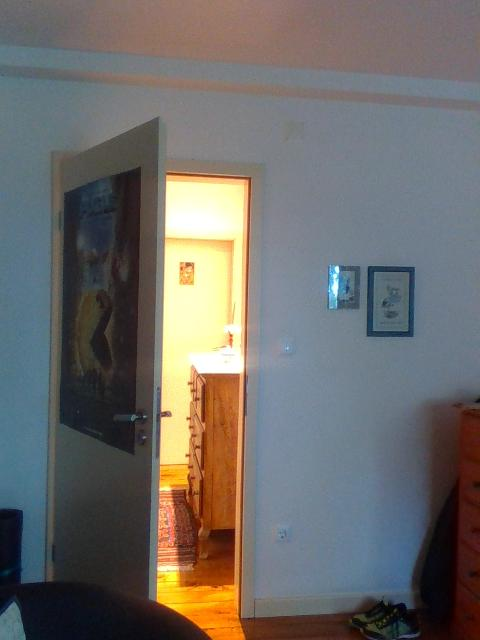semi_door: (46, 113, 264, 639)
